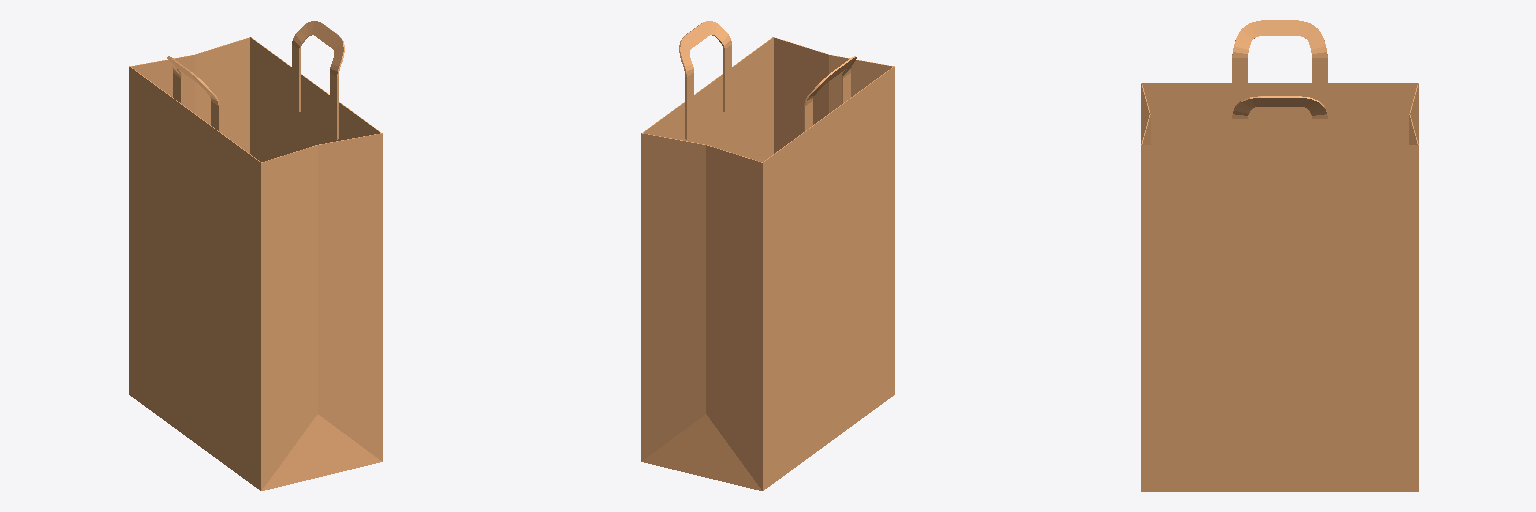
The robot description file, URDF, robot "paperbag":
<?xml version="1.0" encoding="utf-8"?>
<robot name="paperbag">
  <link name="base_link">
    
    <inertial>
      <origin xyz="2.5024E-16 0.20723 3.1463E-16" rpy="0 0 0" />
      <mass value="0.10922" />
      <inertia ixx="0.0013362" ixy="-2.0636E-18" ixz="1.4703E-19" iyy="0.00070842" iyz="3.2043E-18" izz="0.001041" />
    </inertial>

    <visual>
      <origin xyz="0 0 0" rpy="0 0 0" />
      <geometry>
        <mesh filename="package://paperbag/meshes/base_link.STL" />
      </geometry>
      <material name="brown_paper">
        <color rgba="0.98824 0.73725 0.51765 1" />
      </material>
    </visual>

    <collision name="main_body_collision">
      <origin xyz="0 0.15 0" rpy="0 0 0" />
      <geometry>
        <box size="0.12 0.30 0.20" />
      </geometry>
    </collision>

    <collision name="left_handle_collision">
      <origin xyz="-0.05 0.33 0" rpy="0 0 0" />
      <geometry>
        <cylinder radius="0.005" length="0.06"/>
      </geometry>
    </collision>

    <collision name="right_handle_collision">
      <origin xyz="0.05 0.33 0" rpy="0 0 0" />
      <geometry>
        <cylinder radius="0.005" length="0.06"/>
      </geometry>
    </collision>

    <collision name="top_bar_collision">
      <origin xyz="0 0.36 0" rpy="1.5708 0 0" /> 
      <geometry>
        <cylinder radius="0.006" length="0.10"/>
      </geometry>
    </collision>

  </link>

  <gazebo reference="base_link">
    <kp>1000000.0</kp>
    <kd>1.0</kd>
    <mu1>1.0</mu1>
    <mu2>1.0</mu2>
    <material>Gazebo/Wood</material> </gazebo>

</robot>

--- Render facts (derived) ---
The picture shows the robot from 3 angles, left to right: view 1: azimuth 30°, elevation 25°; view 2: azimuth 150°, elevation 25°; view 3: azimuth 270°, elevation 25°; orthographic projection.
Robot: paperbag — 1 links, 0 joints (none); root link base_link; default pose: every joint at zero.
Visible links, largest first — view 1: base_link; view 2: base_link; view 3: base_link.
Link boxes in pixels (x1,y1,x2,y2): base_link: (129, 21, 382, 490); base_link: (641, 21, 894, 490); base_link: (1141, 20, 1418, 491).
Size in the robot's own frame: 0.126 by 0.192 by 0.3066 metres.
1 mesh visuals loaded from 1 distinct referenced files (1 binary STL).
